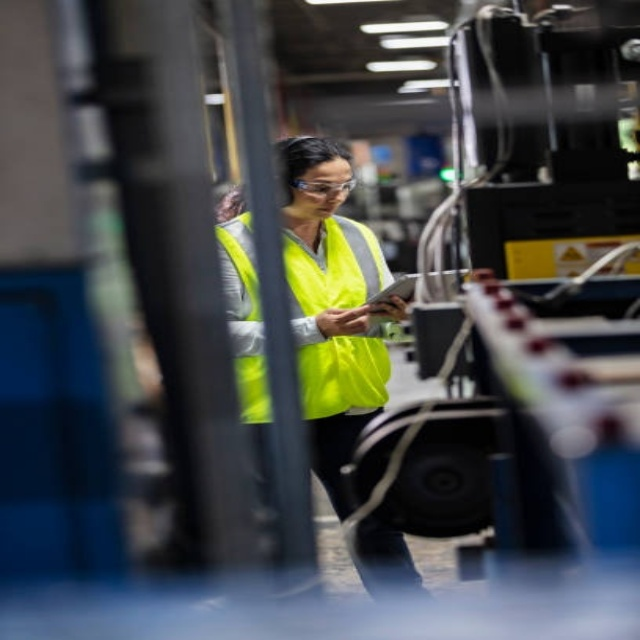Gafas: (293, 178, 359, 195)
Sin_guantes: (317, 303, 384, 338)
Sin_mascara: (295, 204, 339, 222)
